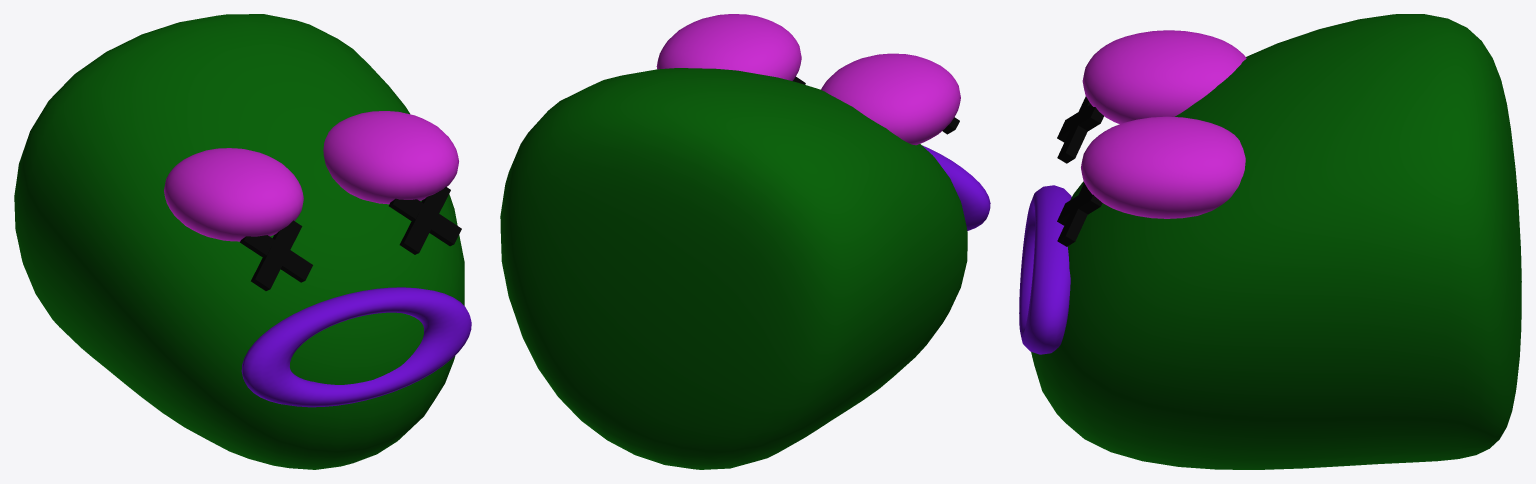
The model's file is worm_dead_head.obj.
3 renders of one model, left to right at view 1: azimuth 30°, elevation 25°; view 2: azimuth 150°, elevation 25°; view 3: azimuth 270°, elevation 25°, orthographic. The views are drawn at different scales.
Parts seen in each view (by area): view 1: Cube.001, Toroide, Cubo.006, Cubo.007, Cube.003, Cube.006, Cube.005, Cube.004; view 2: Cube.001, Cubo.006, Cubo.007, Toroide; view 3: Cube.001, Cubo.007, Cubo.006, Toroide, Cube.003, Cube.004, Cube.006, Cube.005.
Boxes of the visible parts, x1=… form: Cube.001: x1=14, y1=14, x2=464, y2=469; Toroide: x1=241, y1=287, x2=471, y2=407; Cubo.006: x1=164, y1=148, x2=303, y2=241; Cubo.007: x1=323, y1=111, x2=458, y2=204; Cube.003: x1=251, y1=220, x2=302, y2=290; Cube.006: x1=399, y1=187, x2=450, y2=254; Cube.005: x1=389, y1=198, x2=461, y2=246; Cube.004: x1=240, y1=235, x2=312, y2=282; Cube.001: x1=500, y1=68, x2=967, y2=469; Cubo.006: x1=821, y1=53, x2=960, y2=145; Cubo.007: x1=656, y1=14, x2=801, y2=80; Toroide: x1=922, y1=145, x2=990, y2=230; Cube.001: x1=1031, y1=14, x2=1521, y2=469; Cubo.007: x1=1081, y1=116, x2=1245, y2=218; Cubo.006: x1=1082, y1=30, x2=1246, y2=123; Toroide: x1=1019, y1=185, x2=1071, y2=354; Cube.003: x1=1057, y1=104, x2=1103, y2=142; Cube.004: x1=1057, y1=96, x2=1090, y2=163; Cube.006: x1=1057, y1=189, x2=1102, y2=225; Cube.005: x1=1057, y1=183, x2=1087, y2=246.
Size of the model in its own units: 1.43 by 1.36 by 1.53.
